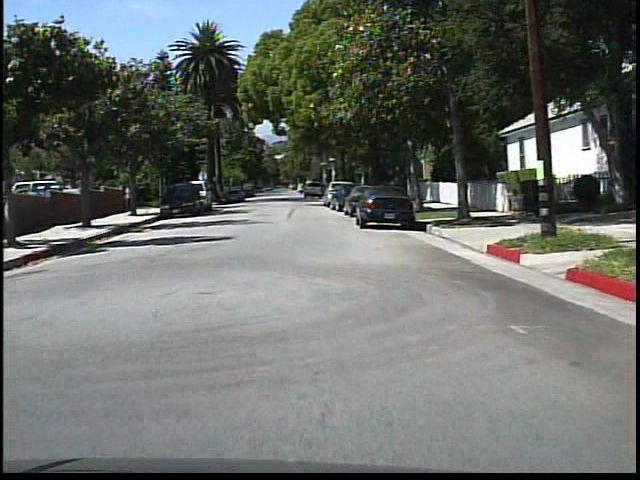person: (122, 181, 138, 215)
